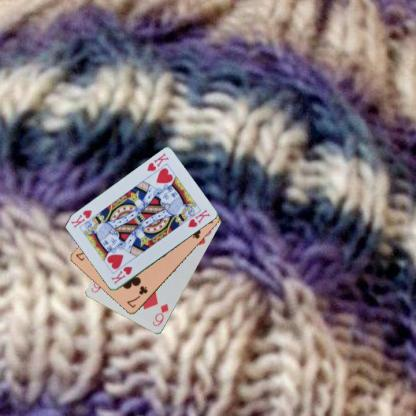6d: (150, 301, 170, 328)
7c: (124, 284, 149, 310)
Kh: (144, 151, 170, 173), (108, 264, 134, 285)
